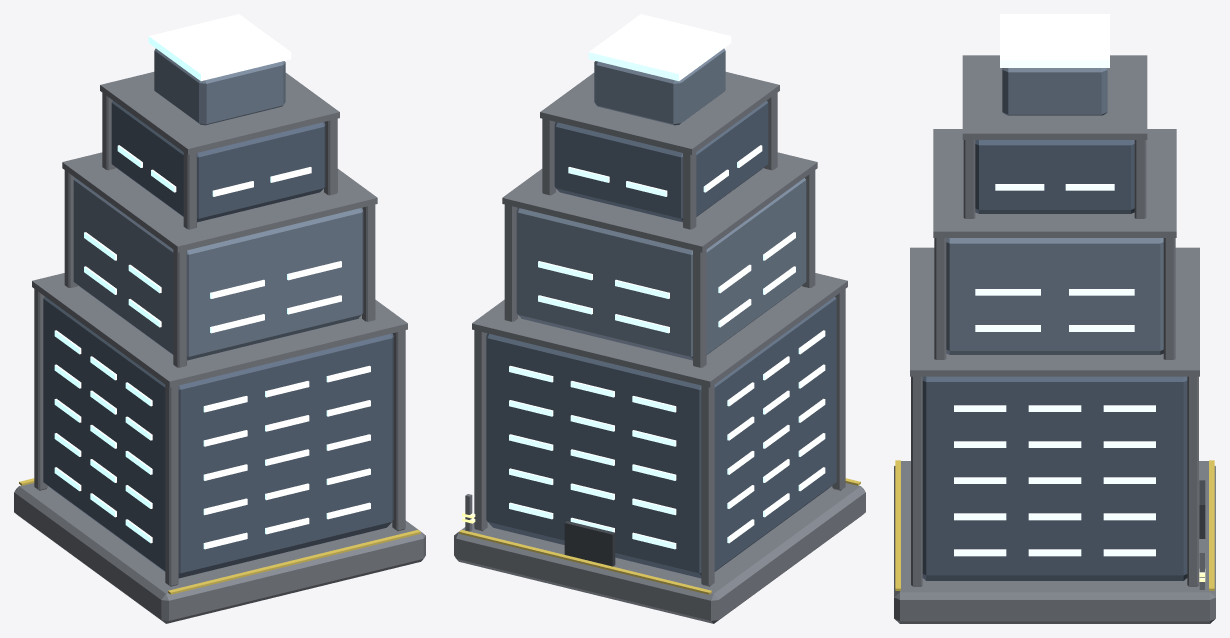
The model's file is zone_high_4_t2.glb.
3 views of the same model, side by side, from view 1: azimuth 30°, elevation 25°; view 2: azimuth 150°, elevation 25°; view 3: azimuth 270°, elevation 25° (orthographic). The views are drawn at different scales.
Parts seen in each view (by area): view 1: zone_high_4_t2, detail; view 2: zone_high_4_t2, detail; view 3: zone_high_4_t2, detail.
Part boxes in pixels (x1,y1,x2,y2): zone_high_4_t2: (14,14,425,623); detail: (19,478,420,594); zone_high_4_t2: (454,14,865,623); detail: (459,478,860,594); zone_high_4_t2: (894,14,1215,623); detail: (895,460,1214,590).
Bounding box in the file's own units: 27.5 × 49.16 × 27.5.
